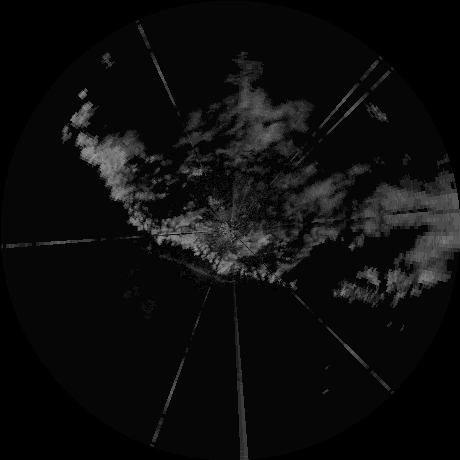frontgust: (158, 256, 235, 284)
